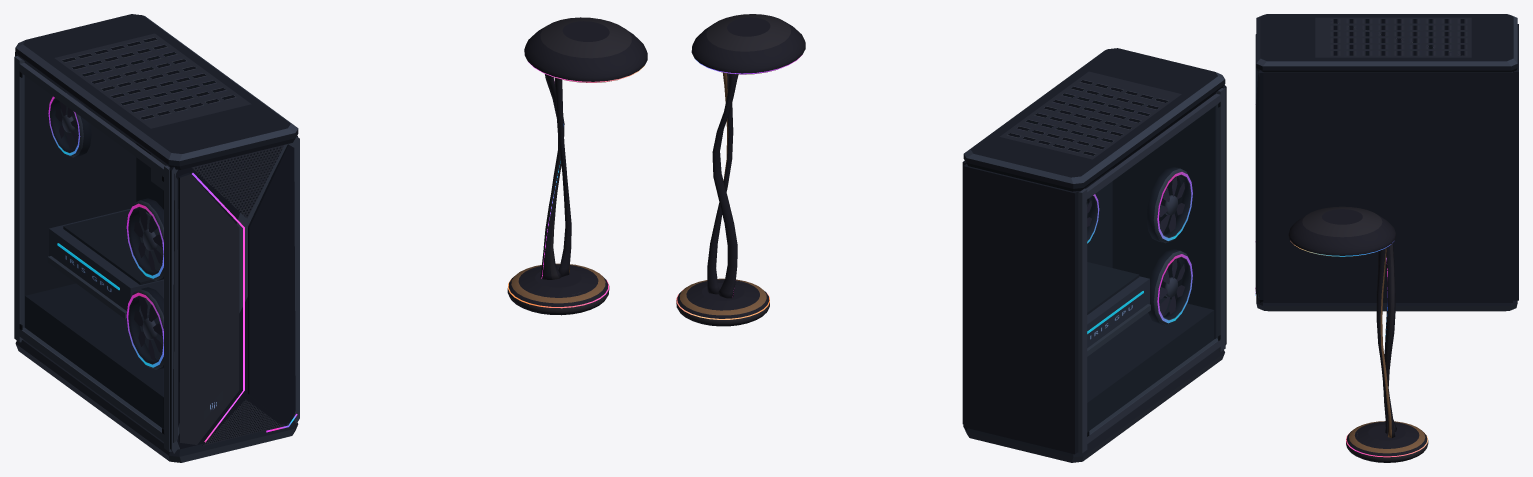
File: tower-lamp-v1.glb
3 renders of one model, left to right at view 1: azimuth 30°, elevation 25°; view 2: azimuth 150°, elevation 25°; view 3: azimuth 270°, elevation 25°, orthographic. The views are drawn at different scales.
Visible parts, largest first — view 1: tower_body, tower_glass, lamp_body; view 2: tower_body, tower_glass, lamp_body; view 3: tower_body, lamp_body.
Boxes of the visible parts, left/top/right/bottom form: tower_body: left=14, top=14, right=299, bottom=462; tower_glass: left=20, top=74, right=163, bottom=431; lamp_body: left=507, top=17, right=647, bottom=315; tower_body: left=962, top=48, right=1226, bottom=462; tower_glass: left=1088, top=104, right=1219, bottom=433; lamp_body: left=676, top=14, right=805, bottom=326; tower_body: left=1255, top=14, right=1518, bottom=311; lamp_body: left=1288, top=206, right=1428, bottom=462.
Size of the model in its own units: 1.29 by 0.7366 by 0.702.
3 materials, 1 textured.
